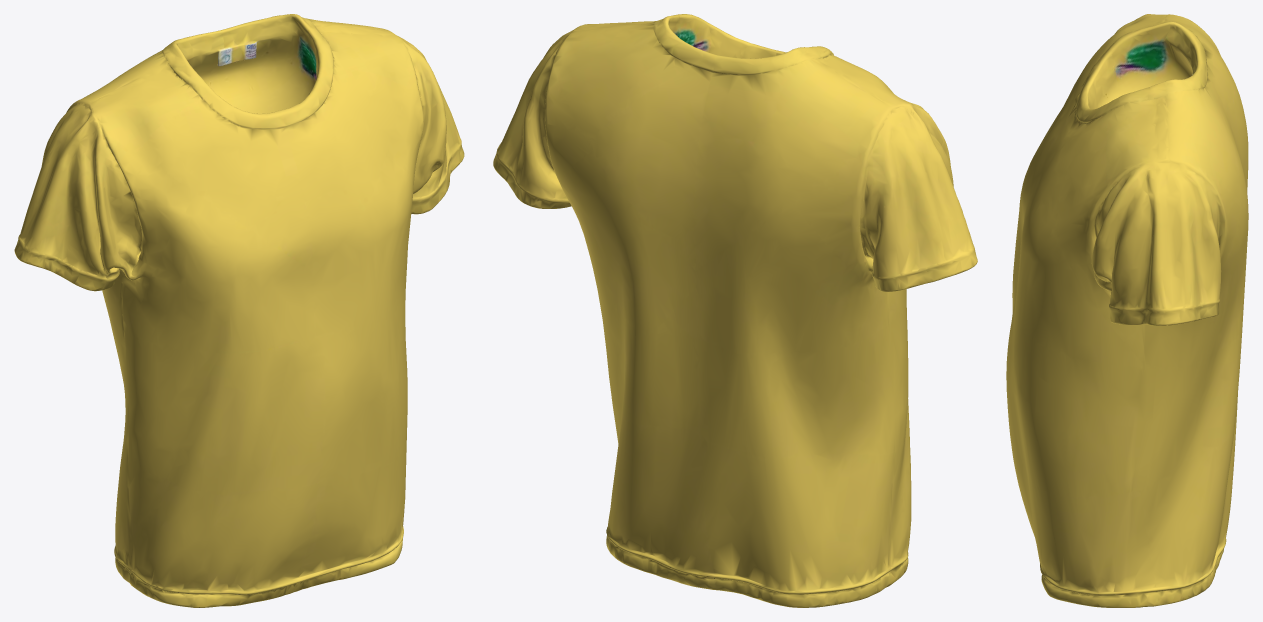
3 renders of one model, left to right at view 1: azimuth 30°, elevation 25°; view 2: azimuth 150°, elevation 25°; view 3: azimuth 270°, elevation 25°, orthographic. The views are drawn at different scales.
Visible parts, largest first — view 1: tripo_node_a47fa30d-23dc-415e-96e2-f5e189b68f56; view 2: tripo_node_a47fa30d-23dc-415e-96e2-f5e189b68f56; view 3: tripo_node_a47fa30d-23dc-415e-96e2-f5e189b68f56.
Part boxes in pixels (x1,y1,x2,y2): tripo_node_a47fa30d-23dc-415e-96e2-f5e189b68f56: (14, 14, 464, 607); tripo_node_a47fa30d-23dc-415e-96e2-f5e189b68f56: (493, 14, 977, 607); tripo_node_a47fa30d-23dc-415e-96e2-f5e189b68f56: (1006, 14, 1248, 607).
Bounding box in the file's own units: 0.9076 × 1 × 0.4364.
Materials: 1 (1 with a texture image).
